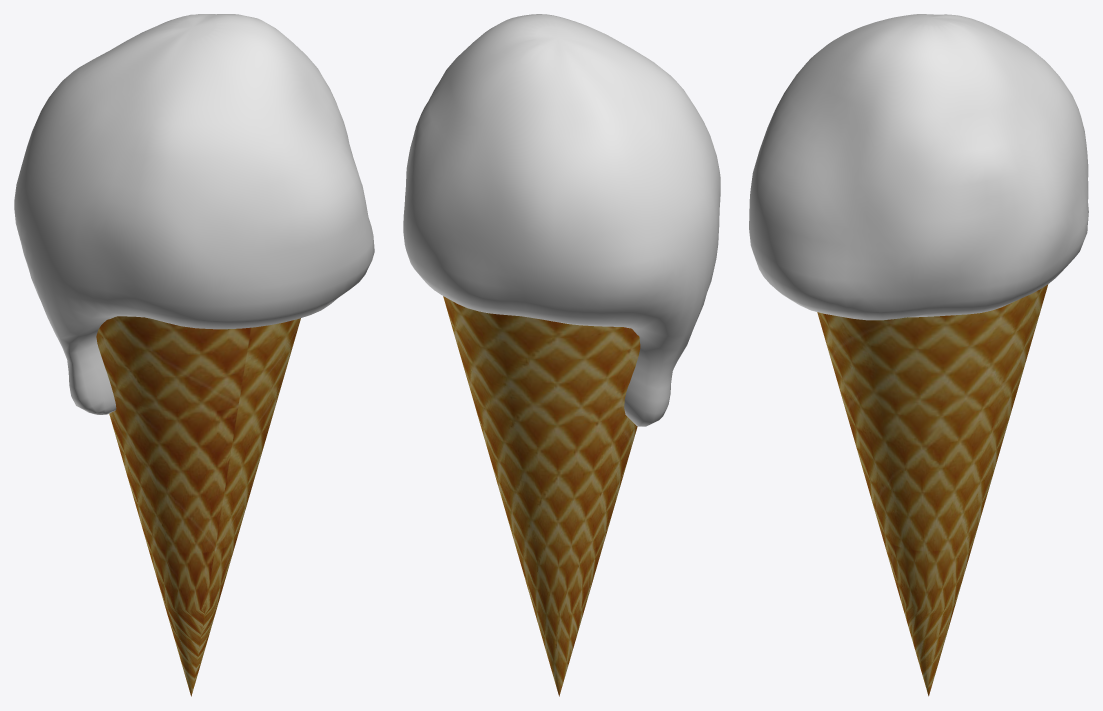
3 views of the same model, side by side, from view 1: azimuth 30°, elevation 25°; view 2: azimuth 150°, elevation 25°; view 3: azimuth 270°, elevation 25° (orthographic). The views are drawn at different scales.
Visible parts, largest first — view 1: Sphere007, Cone001; view 2: Sphere007, Cone001; view 3: Sphere007, Cone001.
Boxes of the visible parts, <box> form: Sphere007: <box>14,14,374,414</box>; Cone001: <box>96,316,300,696</box>; Sphere007: <box>403,14,720,426</box>; Cone001: <box>443,296,640,696</box>; Sphere007: <box>749,14,1088,320</box>; Cone001: <box>817,284,1048,696</box>.
Size of the model in its own units: 11.59 by 25.25 by 11.38.
Materials: 2 (1 with a texture image).
